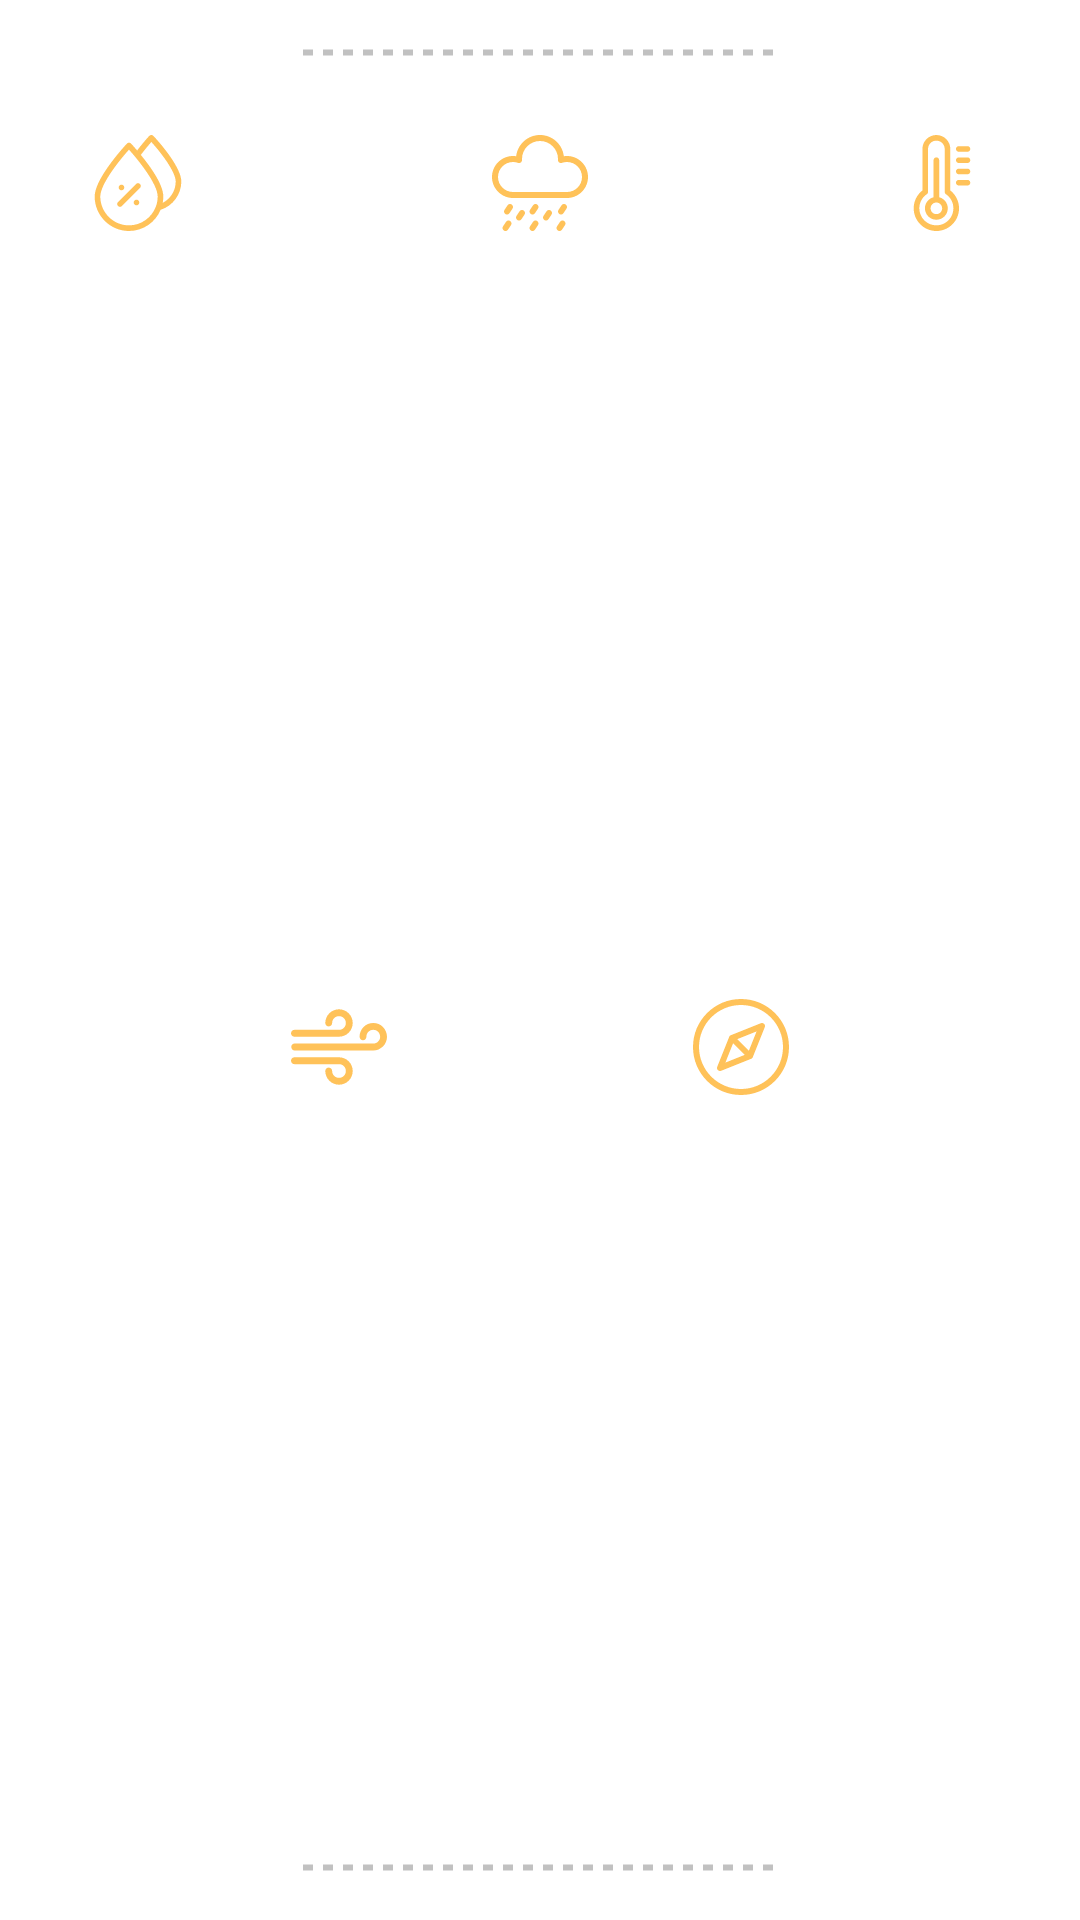

Icon click points for this 1080*1920 phone screenshot, format (x,y):
humidity: (138,183)
rainfall: (540,183)
wind: (339,1047)
wind direction: (741,1047)
